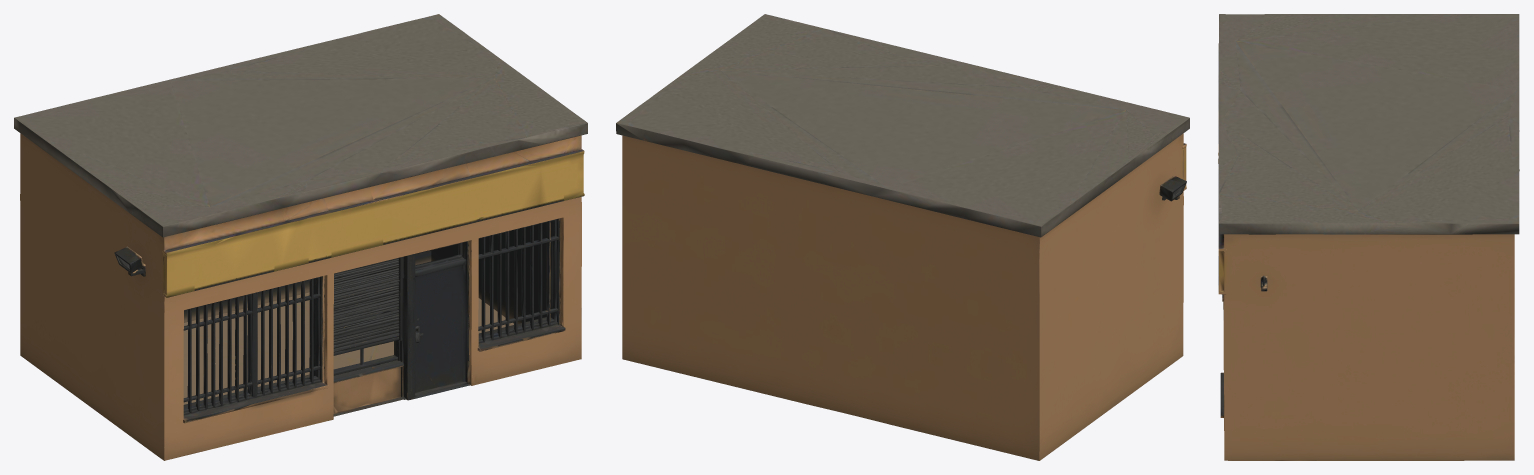
Rendered from store-check-cashing.glb.
The picture shows the model from 3 angles, left to right: view 1: azimuth 30°, elevation 25°; view 2: azimuth 150°, elevation 25°; view 3: azimuth 270°, elevation 25°; orthographic projection.
Bounding box in the file's own units: 8.94 × 4.5 × 5.12.
3 materials, 3 textured.
